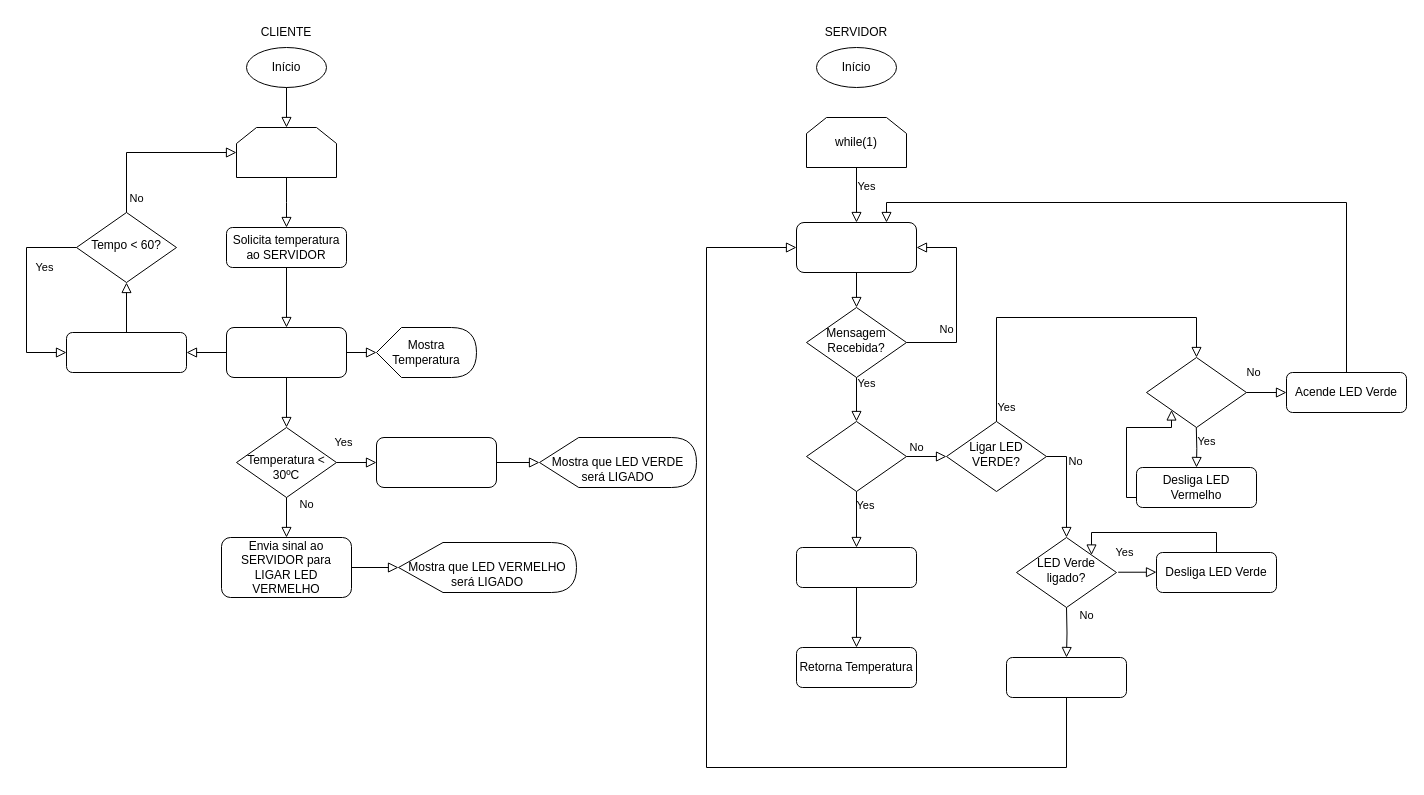
This 1424x795 diagram has some shape labels left out. The centre of each missing label's shape, as x and y in pixels:
"Acende LED Vermelho" goes at point 1066,677.
"Aguarda Mensagem" goes at point 856,247.
"Decodifica a Temperatura Recebida" goes at point 286,352.
"Envia sinal ao SERVIDOR para LIGAR LED VERDE" goes at point 436,462.
"Incrementa Tempo" goes at point 126,352.
"LED Vermelho ligado?" goes at point 1196,392.
"Ler Temperatura?" goes at point 856,456.
"Obter leitura do DHT" goes at point 856,567.
"Tempo = 0" goes at point 286,152.
